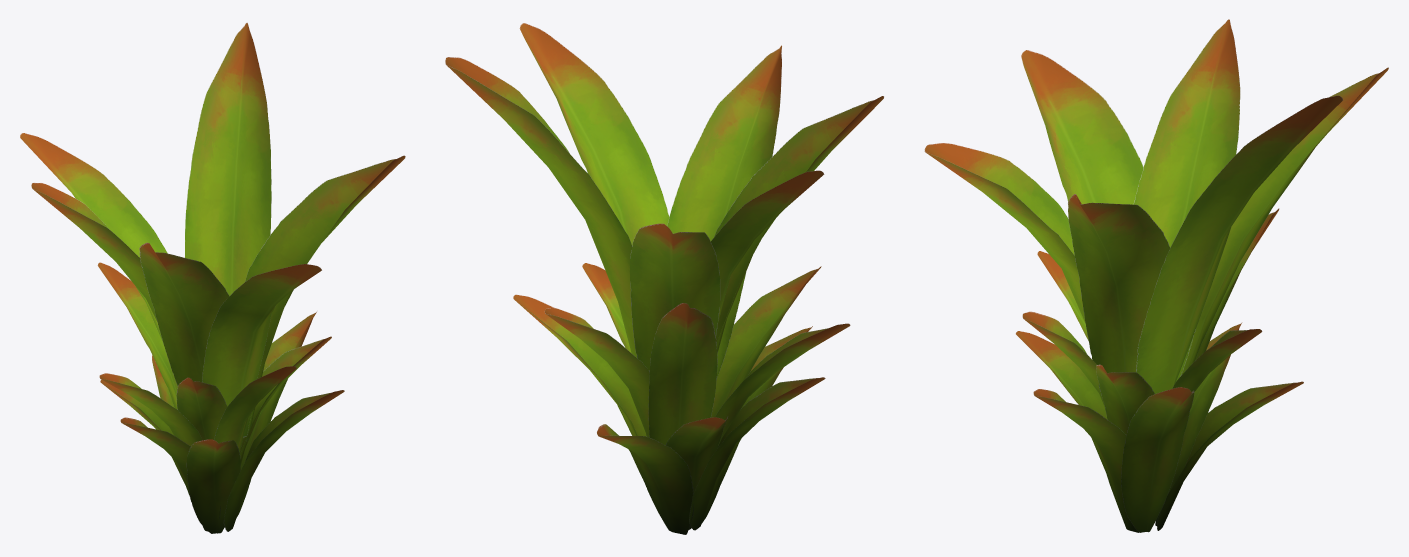
The model's file is plant_big.gltf.
3 views of the same model, side by side, from view 1: azimuth 30°, elevation 25°; view 2: azimuth 150°, elevation 25°; view 3: azimuth 270°, elevation 25° (orthographic). The views are drawn at different scales.
Parts seen in each view (by area): view 1: plant_big; view 2: plant_big; view 3: plant_big.
Part boxes in pixels (left/top/right/bottom): plant_big: left=20, top=22, right=405, bottom=533; plant_big: left=445, top=23, right=883, bottom=534; plant_big: left=924, top=19, right=1388, bottom=532.
Size of the model in its own units: 1.81 by 2.35 by 1.95.
1 material, 1 textured.
